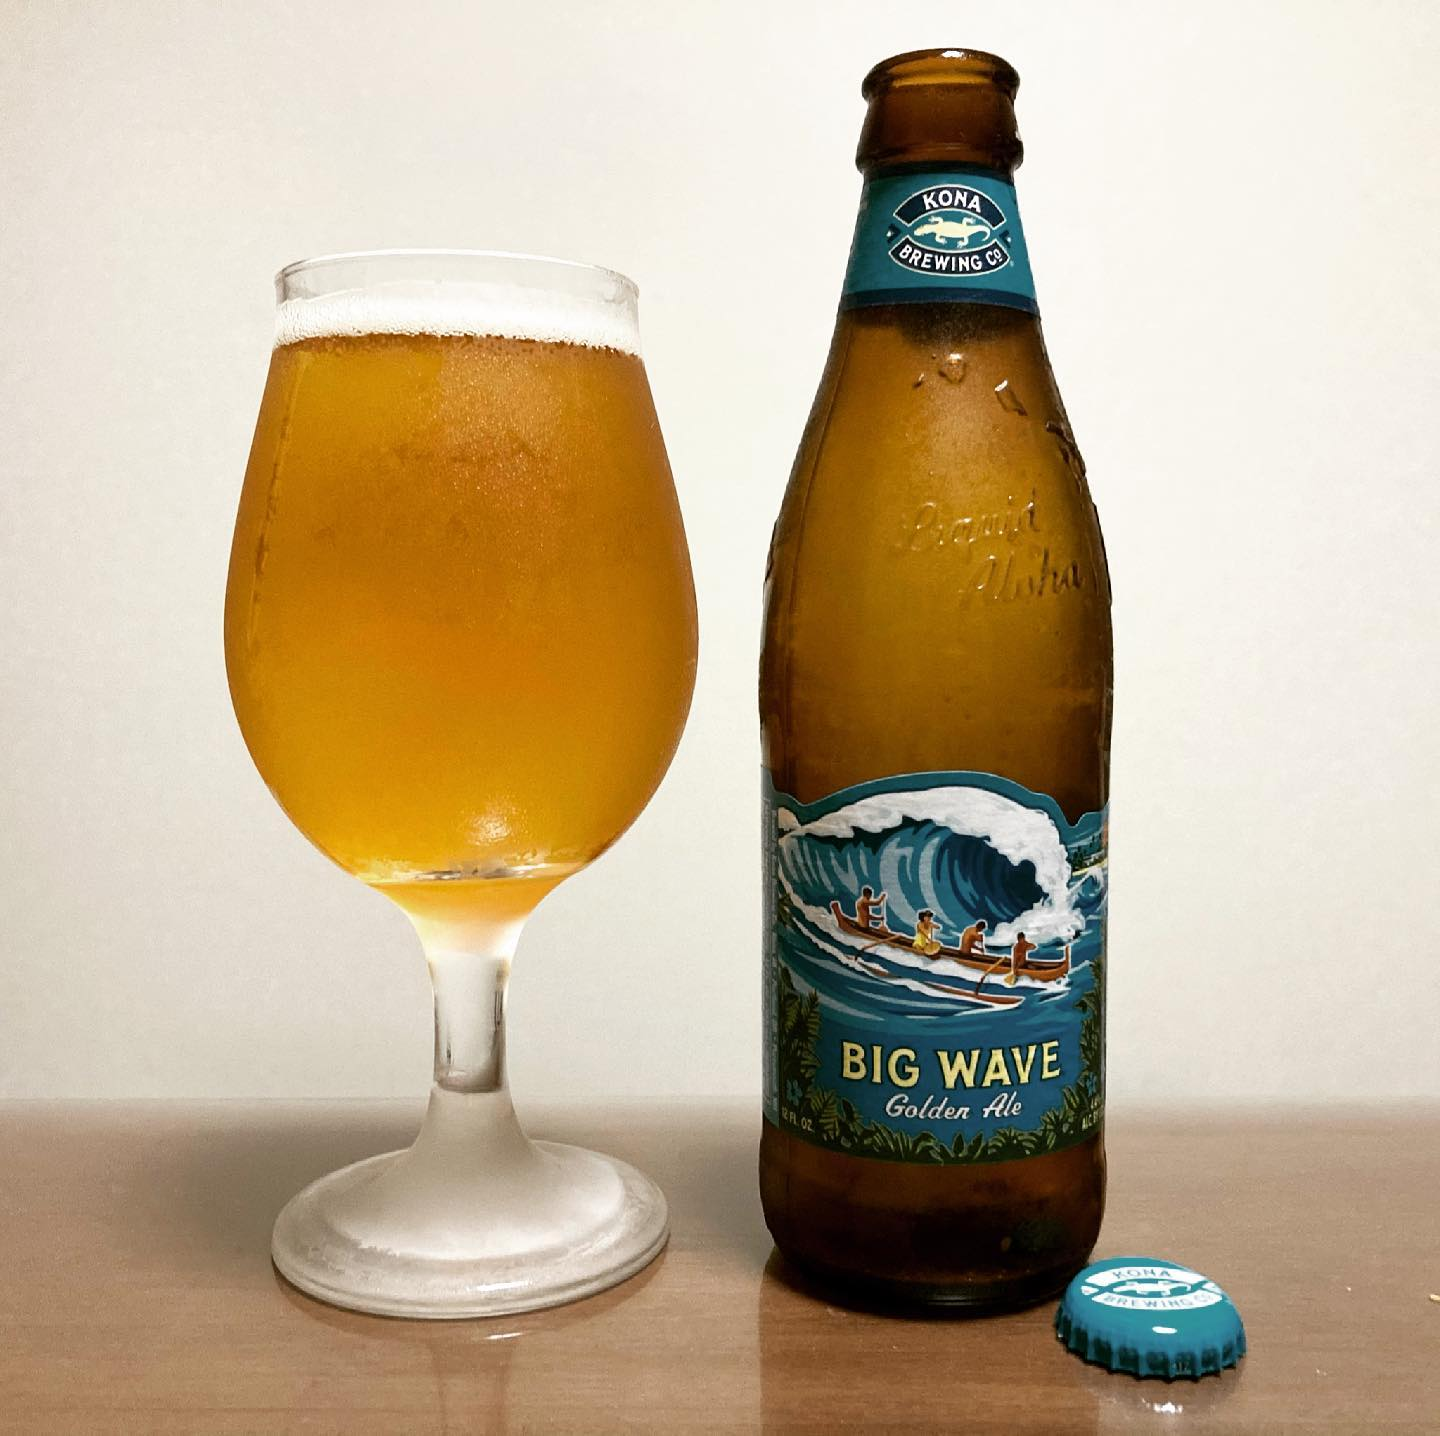alcohol: (217, 241, 709, 1331), (748, 37, 1122, 1328)
